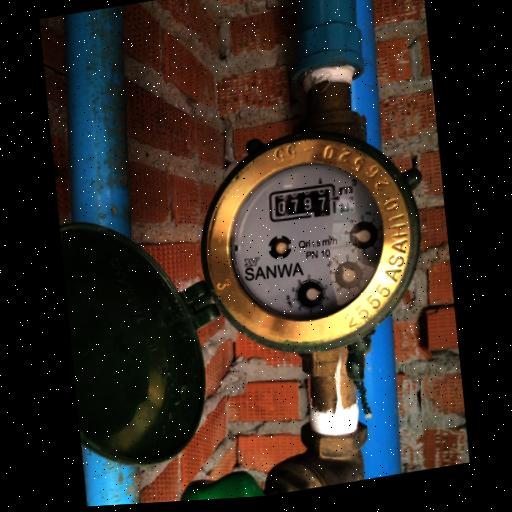0: (273, 194, 290, 217)
7: (311, 188, 331, 218), (286, 193, 302, 215)
9: (300, 190, 316, 213)
border_water_meter_number: (267, 180, 337, 226)
